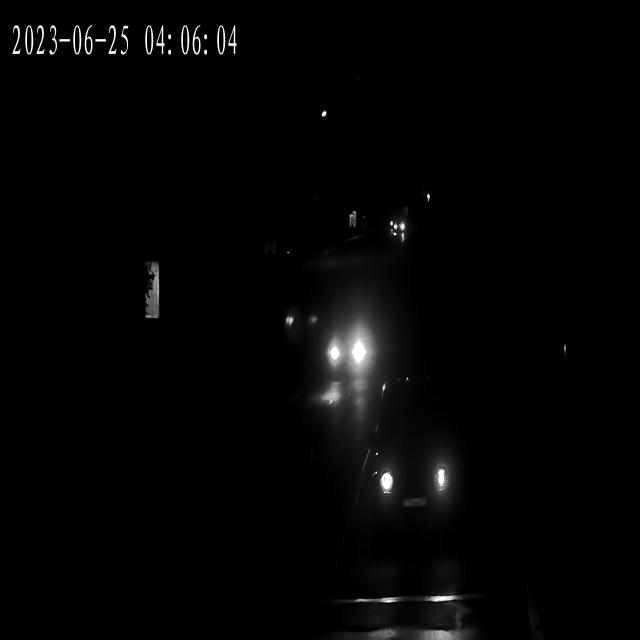Car: (357, 426, 456, 522), (323, 323, 378, 377), (281, 296, 324, 338), (386, 217, 406, 237)
